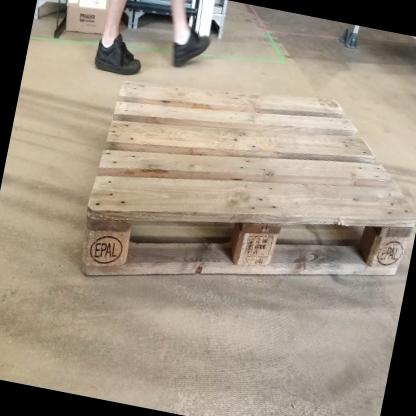BoxFace: (79, 75, 416, 290)
